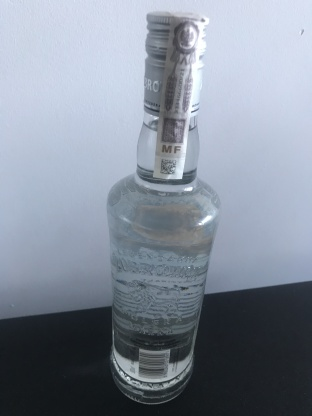nakretka: (140, 7, 211, 119)
